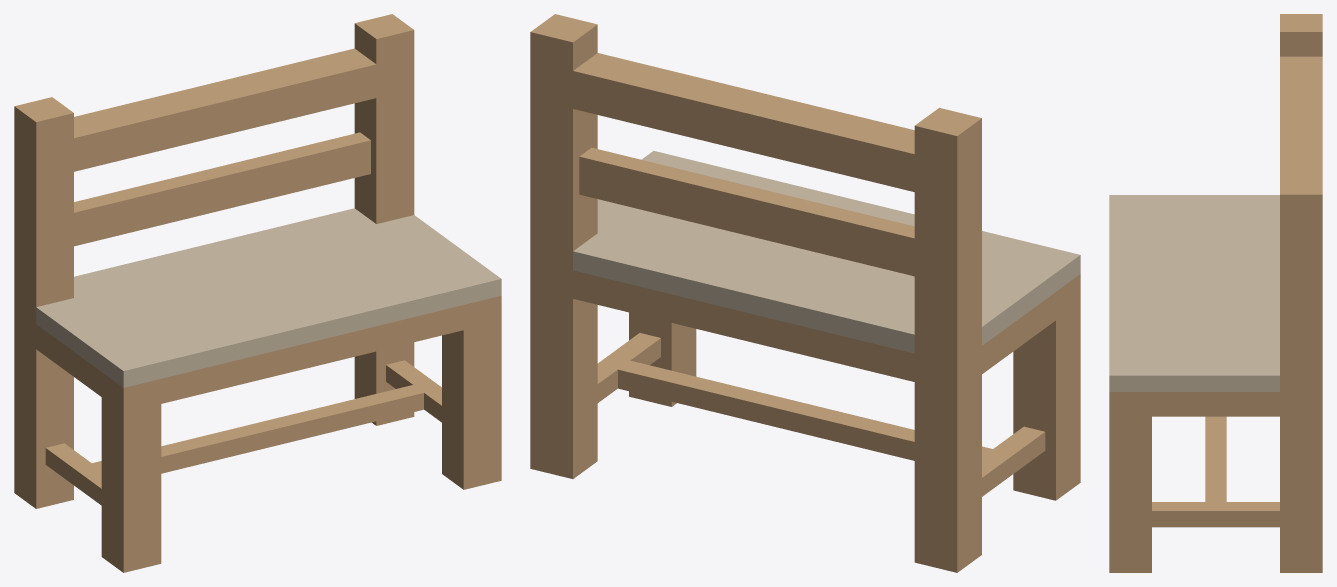
The model's file is bench-cushion.glb.
3 renders of one model, left to right at view 1: azimuth 30°, elevation 25°; view 2: azimuth 150°, elevation 25°; view 3: azimuth 270°, elevation 25°, orthographic. The views are drawn at different scales.
Parts seen in each view (by area): view 1: bench-cushion; view 2: bench-cushion; view 3: bench-cushion.
Part boxes in pixels (left/top/right/bottom): bench-cushion: left=14, top=14, right=501, bottom=572; bench-cushion: left=530, top=14, right=1080, bottom=572; bench-cushion: left=1109, top=14, right=1322, bottom=572.
Size of the model in its own units: 0.9 by 0.88 by 0.45.
